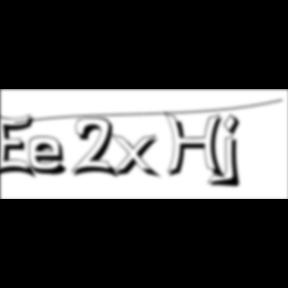2: (72, 117, 122, 181)
E: (0, 110, 40, 182)
H: (164, 112, 230, 182)
e: (29, 135, 75, 178)
j: (220, 113, 248, 191)
x: (110, 132, 164, 181)
